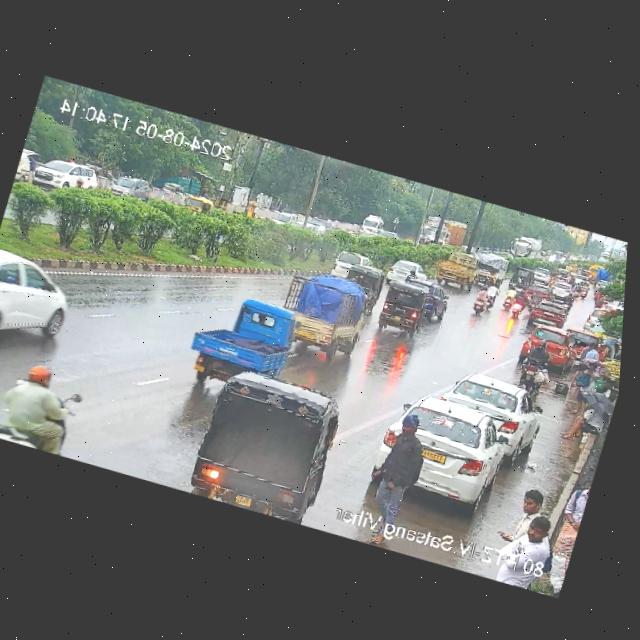bus: (506, 232, 542, 263)
car: (183, 359, 348, 514), (367, 386, 527, 519), (188, 283, 299, 394), (0, 250, 81, 362), (435, 367, 544, 450), (24, 149, 104, 201), (373, 276, 436, 339), (518, 322, 576, 367), (107, 168, 155, 206), (351, 263, 389, 310), (385, 255, 436, 289), (525, 297, 570, 329), (327, 245, 358, 281), (355, 211, 386, 242), (181, 195, 219, 216), (526, 280, 554, 304), (581, 304, 603, 332), (271, 209, 298, 229), (550, 279, 571, 303), (308, 215, 332, 232), (530, 266, 550, 285)
motorcycle: (515, 333, 555, 393), (467, 282, 499, 318), (501, 287, 527, 318), (525, 286, 543, 312), (561, 289, 576, 314), (579, 282, 591, 301), (572, 280, 584, 299), (550, 268, 560, 277)
person: (366, 413, 434, 509), (500, 514, 559, 570), (556, 392, 608, 447), (504, 481, 548, 533), (572, 339, 604, 370)
truck: (281, 269, 372, 361), (410, 209, 470, 255), (427, 247, 481, 292), (476, 250, 512, 288)
